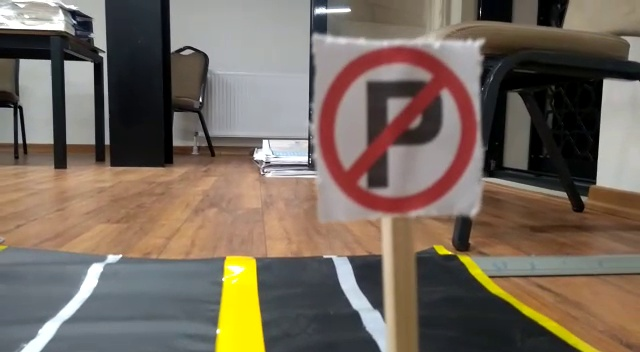park_yapilmaz: (310, 39, 477, 212)
